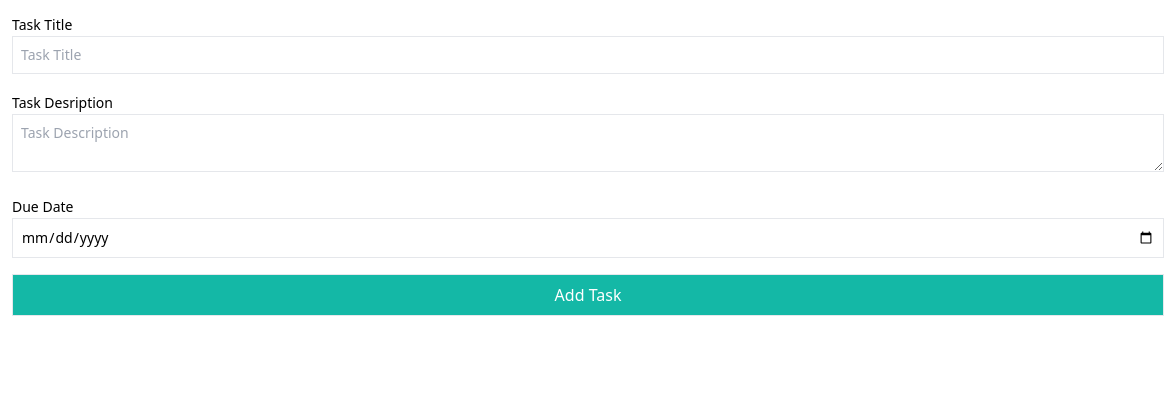
Test: TaskForm Component › clears error messages when user types in input fields
Click the button "Add Task" at coordinates (588, 295), box top-left (12, 274), bottom-right (1164, 316)
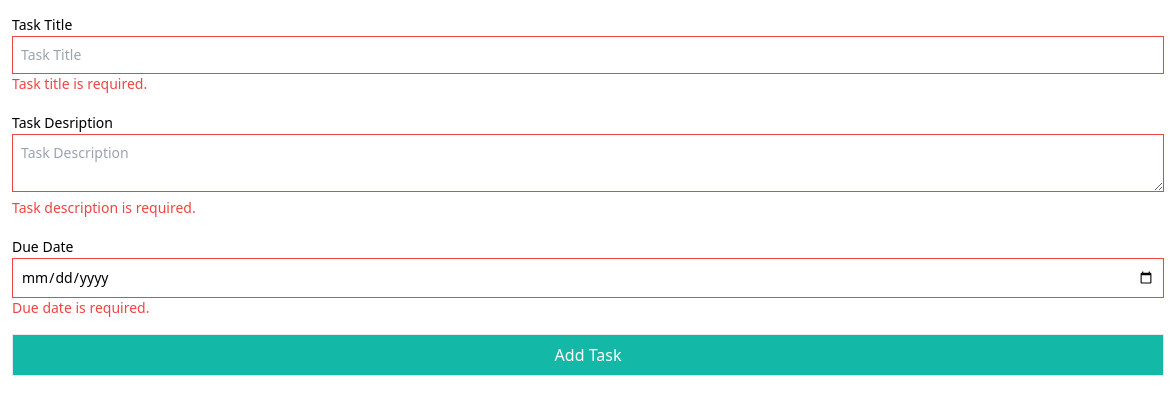
Check: the text "Task title is required." is shown, box top-left (12, 74), bottom-right (147, 93)
Type "New Task" into the field with placeholder "Task Title" at coordinates (588, 55), box top-left (12, 36), bottom-right (1164, 74)
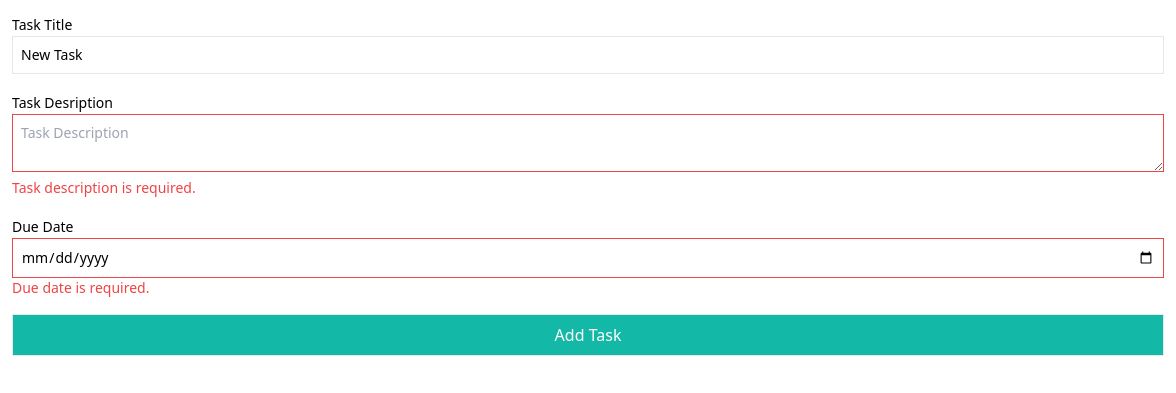
Check: the text "Task title is required." is gone
